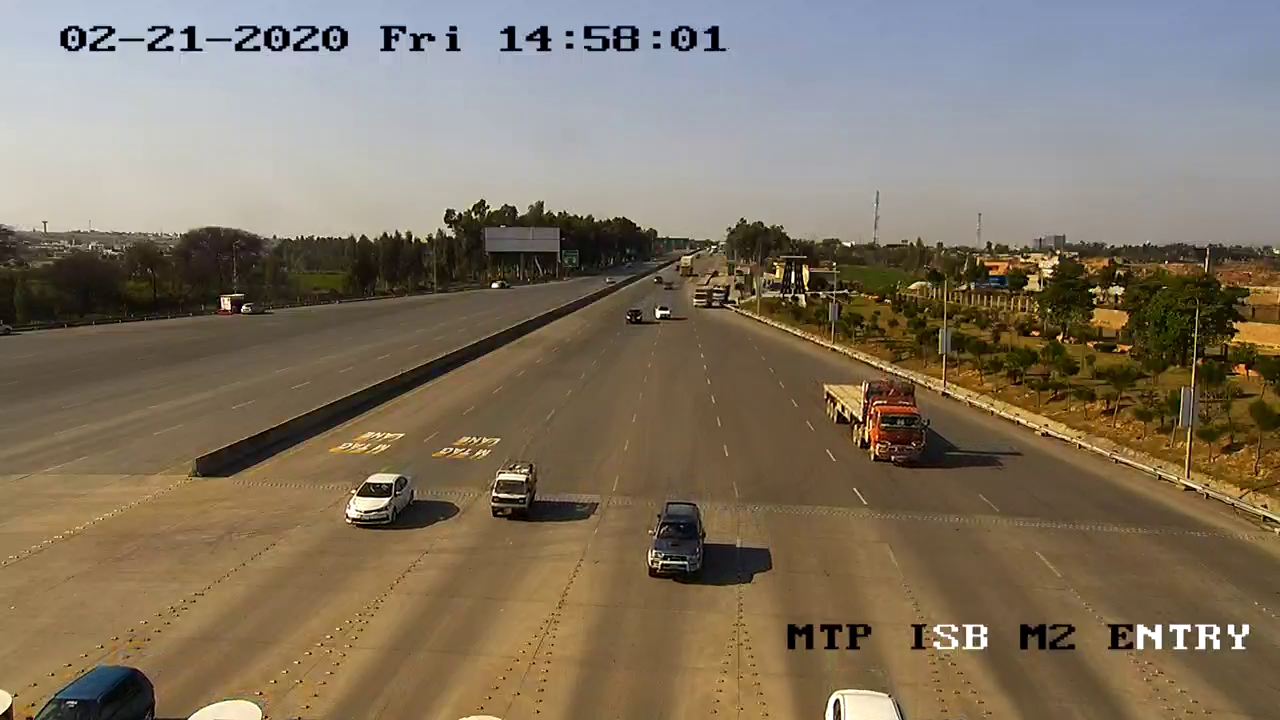f1: (622, 489, 722, 588), (337, 463, 426, 540), (482, 454, 548, 532)
f6: (812, 364, 946, 477)
